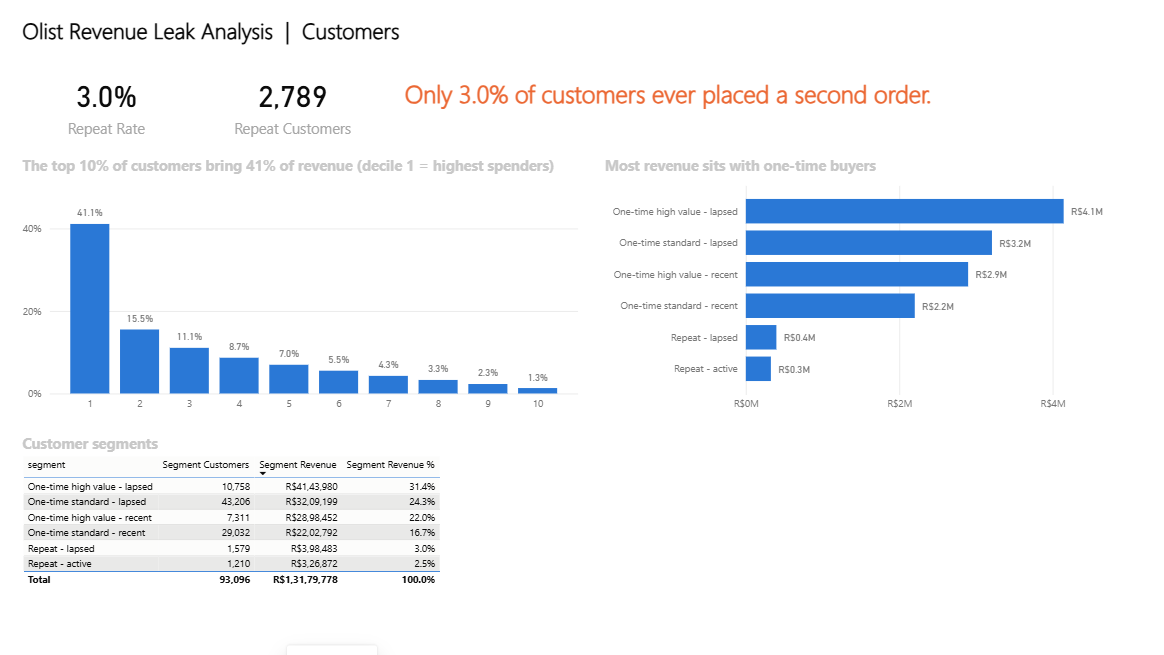

What the dashboard file says about the page in this screenshot:
{"tool":"powerbi","page":{"name":"Customers","canvas":[1280,720],"ordinal":1},"visuals":[{"type":"textbox","box":[20,12,900,44],"z":0},{"type":"textbox","box":[440,80,820,70],"z":10},{"type":"card","fields":{"Values":["fact_orders.Repeat Rate"]},"box":[20,70,195,90],"z":20},{"type":"card","fields":{"Values":["fact_orders.Repeat Customers"]},"box":[225,70,195,90],"z":30},{"type":"clusteredColumnChart","title":"The top 10% of customers bring 41% of revenue (decile 1 = highest spenders)","fields":{"Category":["rfm_segments.decile"],"Y":["rfm_segments.Segment Revenue %"]},"box":[20,170,620,290],"z":40},{"type":"clusteredBarChart","title":"Most revenue sits with one-time buyers","fields":{"Category":["rfm_segments.segment"],"Y":["rfm_segments.Segment Revenue"]},"box":[660,170,600,290],"z":50},{"type":"tableEx","title":"Customer segments","fields":{"Values":["rfm_segments.segment","rfm_segments.Segment Customers","rfm_segments.Segment Revenue","rfm_segments.Segment Revenue %"]},"box":[20,475,1240,230],"z":60}]}

Visuals, with their boxes in screenshot pixels (x1, y1, x2, y2), scaled from the page's 1280x720 canvas onto the 1164x655 screenshot:
textbox: box(18, 11, 837, 51)
textbox: box(400, 73, 1146, 136)
card - fact_orders.Repeat Rate: box(18, 64, 196, 146)
card - fact_orders.Repeat Customers: box(205, 64, 382, 146)
"The top 10% of customers bring 41% of revenue (decile 1 = highest spenders)" clusteredColumnChart: box(18, 155, 582, 418)
"Most revenue sits with one-time buyers" clusteredBarChart: box(600, 155, 1146, 418)
"Customer segments" tableEx: box(18, 432, 1146, 641)
